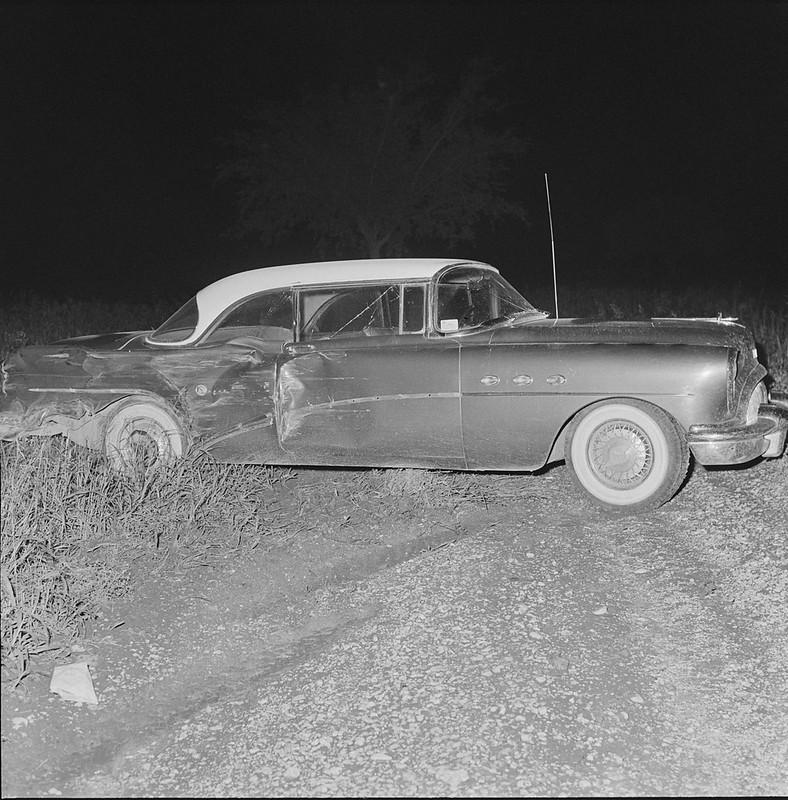doorouter-dent: (313, 295, 482, 472)
quaterpanel-dent: (0, 333, 297, 440)
